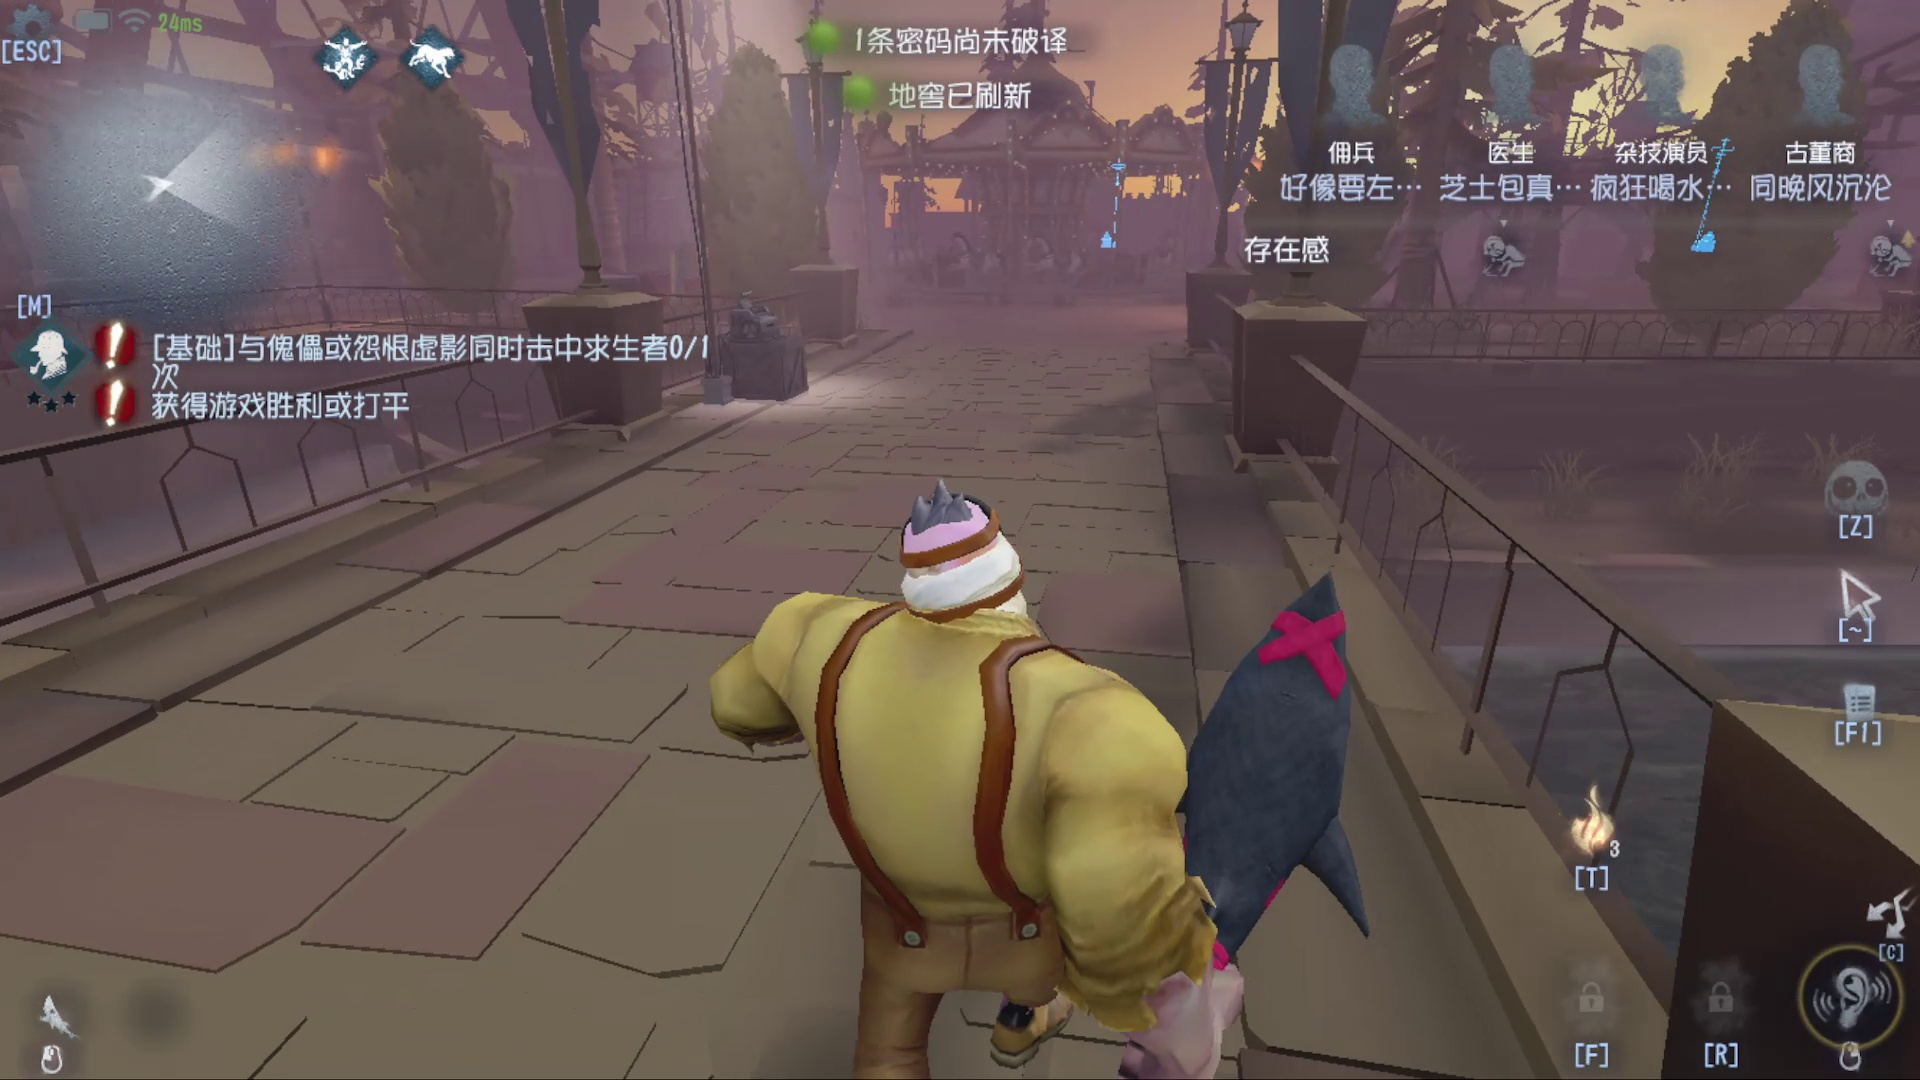密码机: (646, 1, 840, 410), (1684, 131, 1753, 276), (1087, 153, 1139, 260)
